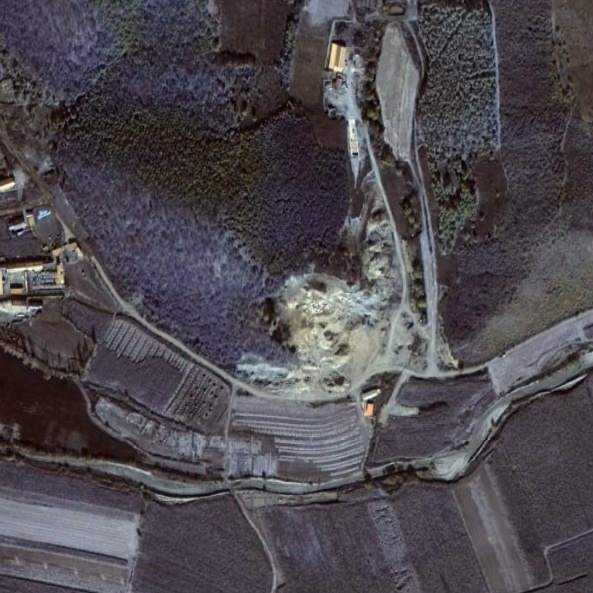slope: (249, 155, 399, 393)
